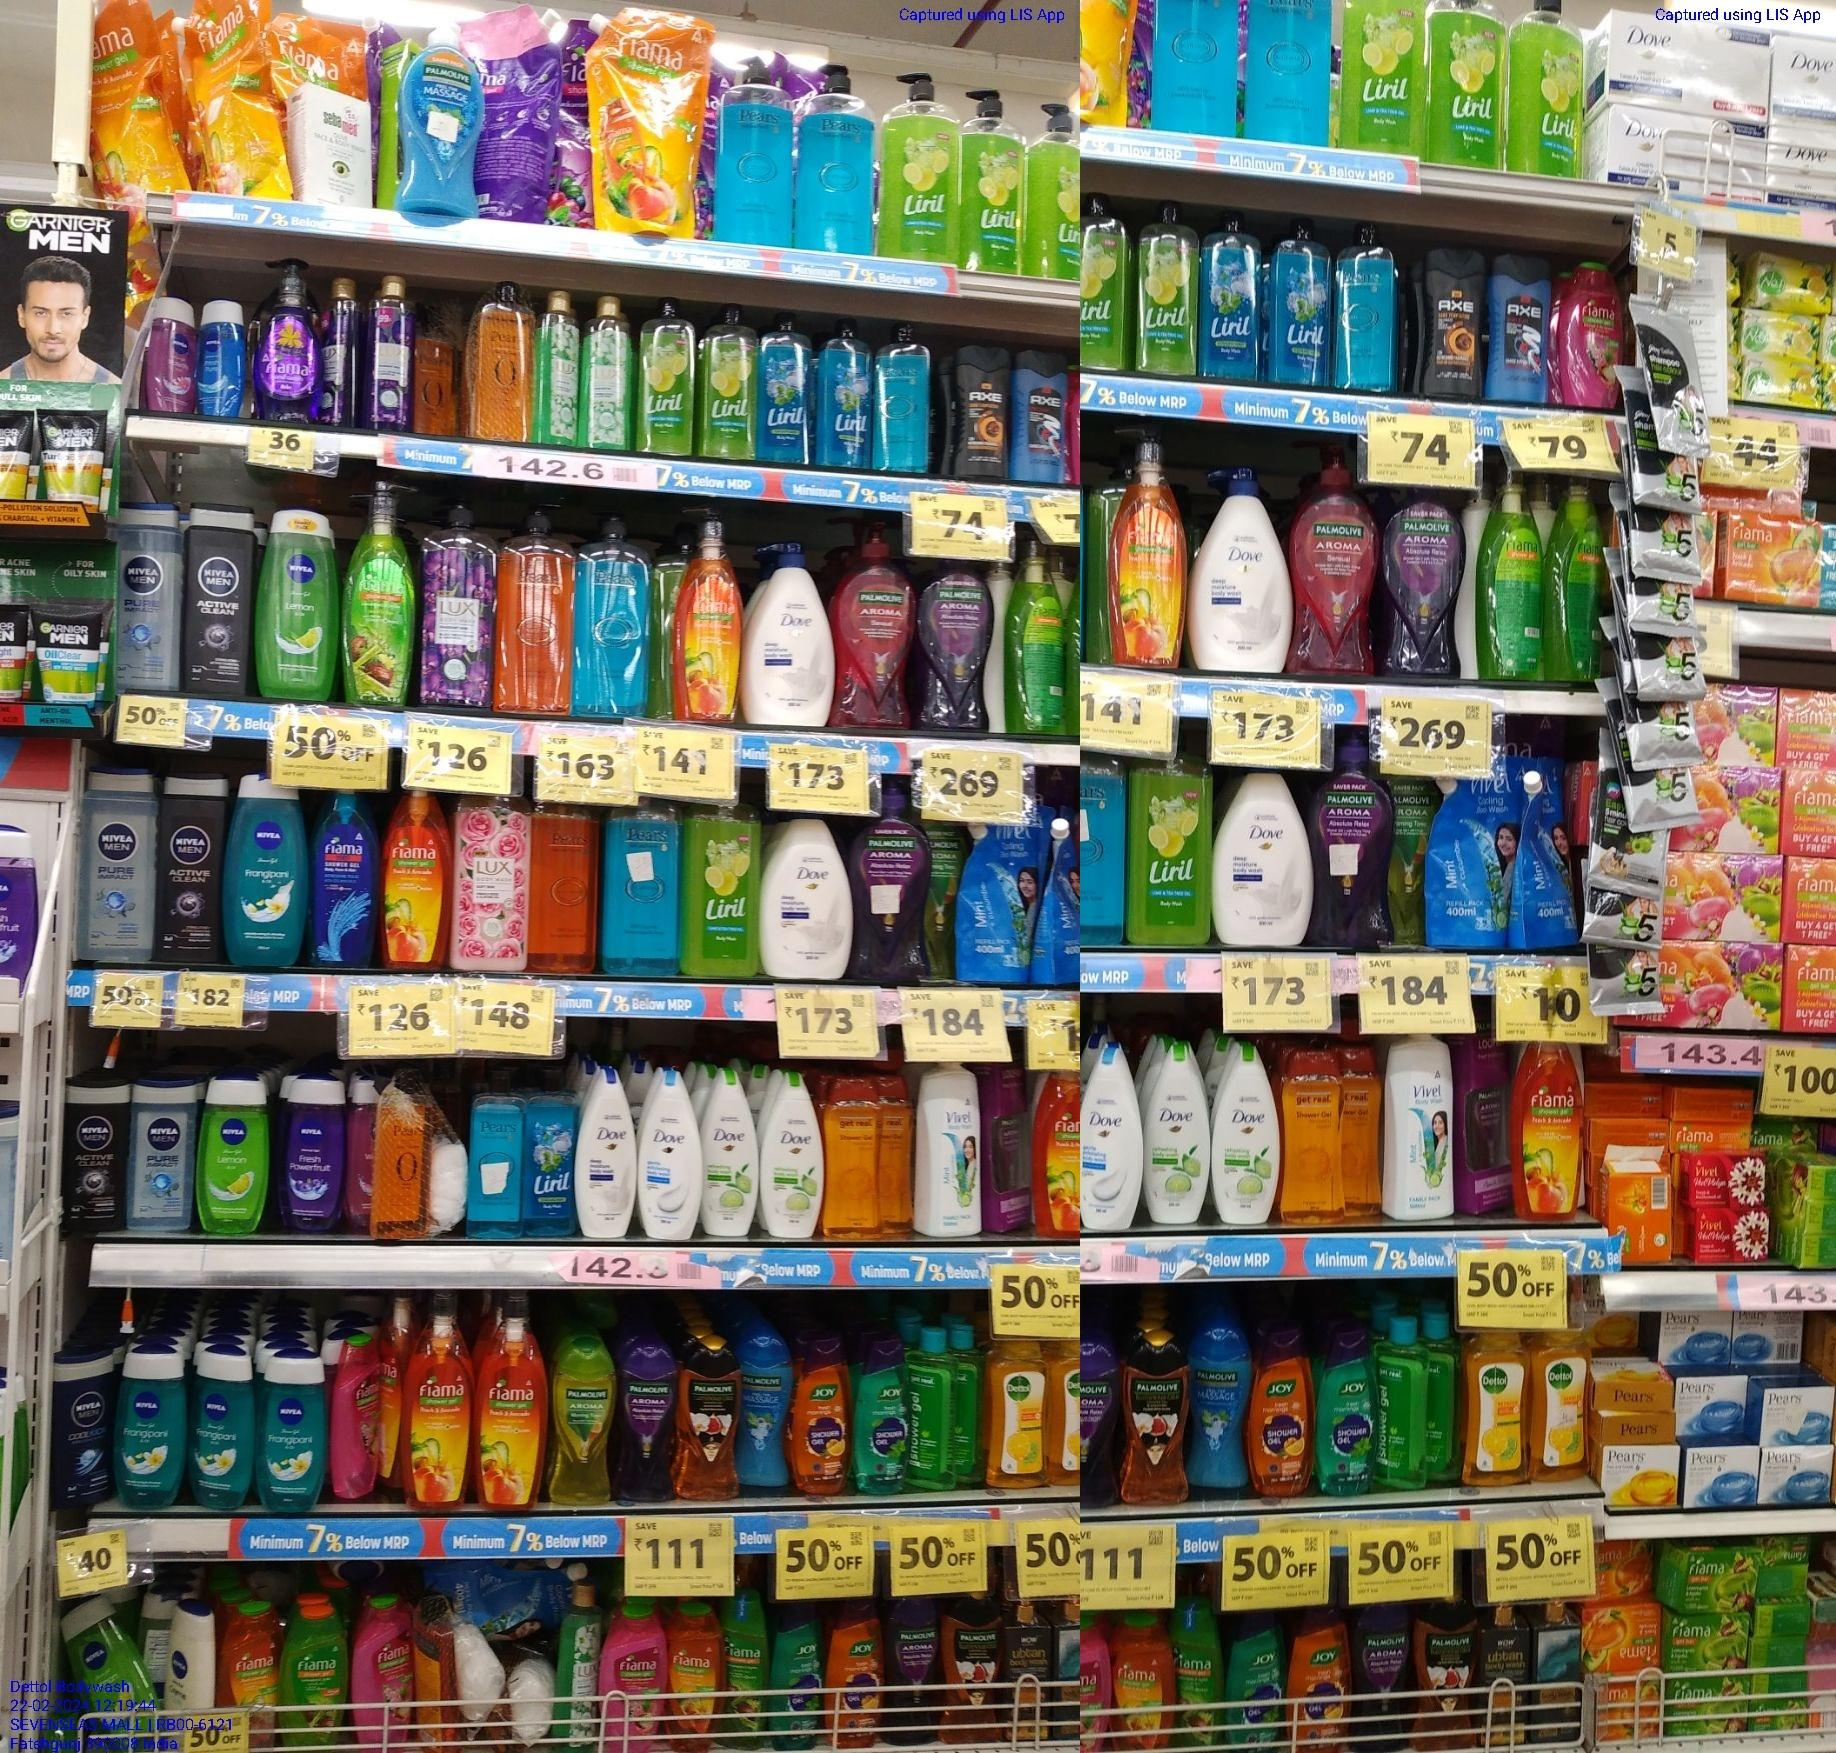Dettol_Bodywash_Refresh: (1464, 1333, 1526, 1487), (987, 1341, 1049, 1489), (1533, 1330, 1582, 1479)
Dove_Deep_Moisture_Body_Wash_250ML: (577, 1072, 634, 1238)
Dove_Gentle_Exfoliating_Body_Wash_250ML: (1080, 1050, 1139, 1232), (641, 1061, 698, 1240)
Dove_Refreshing_Body_Wash_250ML: (761, 1061, 825, 1240), (1213, 1048, 1279, 1222), (1146, 1043, 1207, 1230), (703, 1074, 754, 1240)
Fiama_Shower_Gel_Lemongrass_and_Jojoba_250ML: (282, 1591, 348, 1753)
Fiama_Shower_Gel_Patchouli_and_Macadamia_250ML: (597, 1602, 667, 1753), (354, 1594, 411, 1753), (331, 1332, 380, 1499), (1559, 257, 1610, 410)
Fiama_Shower_Gel_Peach_and_Avocado_250ML: (1120, 1612, 1179, 1753), (674, 1600, 728, 1750), (221, 1589, 277, 1727)
Get_Real_Shower_Gel_Moisturising_Glycerin_300ML: (1285, 1053, 1346, 1230), (828, 1084, 887, 1243)
Joy_Shower_Gel_Mandarin_and_Lemongrass_250ML: (1252, 1332, 1313, 1499), (793, 1338, 849, 1499), (1290, 1605, 1347, 1748), (828, 1602, 875, 1746)
Joy_Shower_Gel_Mint_and_Eucalyptus_250ML: (1320, 1336, 1374, 1500), (1228, 1605, 1285, 1753), (857, 1345, 910, 1494), (772, 1597, 820, 1753)
Liril_Cooling_Mint_Body_Wash_250ML: (1203, 210, 1262, 384), (1272, 221, 1328, 389), (821, 318, 870, 474), (764, 313, 813, 467), (525, 1082, 567, 1218)
Liril_Lime_and_Tea_Tree_Oil_Body_Wash_250ML: (679, 797, 762, 977), (1139, 197, 1198, 377), (698, 298, 759, 461), (1084, 194, 1131, 369), (643, 300, 693, 454)
Lux_Black_Orchid_Scent_and_Juniper_Oil_Body_Wash_245ML: (354, 256, 421, 436)
Lux_Body_Wash_Skin_Detox_Freesia_Scent_and_Alove_Vera_245ML: (582, 289, 628, 444), (556, 1589, 593, 1753), (539, 292, 575, 453)
Nivea_Shower_Gel_Frangipani_and_Oil_250ML: (228, 779, 307, 972), (116, 1356, 189, 1509), (193, 1346, 252, 1517), (259, 1363, 325, 1510)
Nivea_Shower_Gel_Fresh_Powerfruit_250ML: (282, 1079, 348, 1232)
Nivea_Shower_Gel_Lemon_and_Oil_250ML: (256, 505, 336, 699), (198, 1077, 266, 1241)
Palmolive_Aroma_Moments_Feel_The_Massage_Shower_Gel_250ML: (1195, 1318, 1243, 1486), (743, 1343, 787, 1489)
Palmolive_Aroma_Morning_Tonic_Shower_Gel_250ML: (554, 1341, 611, 1504)
Palmolive_Aroma_Relax_250ML: (618, 1333, 679, 1502), (885, 1597, 934, 1753), (1354, 1609, 1407, 1748)
Palmolive_Luminous_Oils_With_White_Orchid_Shower_Gel_250ML: (1123, 1325, 1190, 1505), (1416, 1591, 1479, 1750), (939, 1594, 1002, 1742), (684, 1338, 736, 1504)
Pears_Pure_Glycerin_and_Mint_Extracts_Body_Wash_250ML: (602, 802, 675, 979), (1339, 230, 1392, 398), (877, 320, 934, 474), (467, 1077, 520, 1225)
